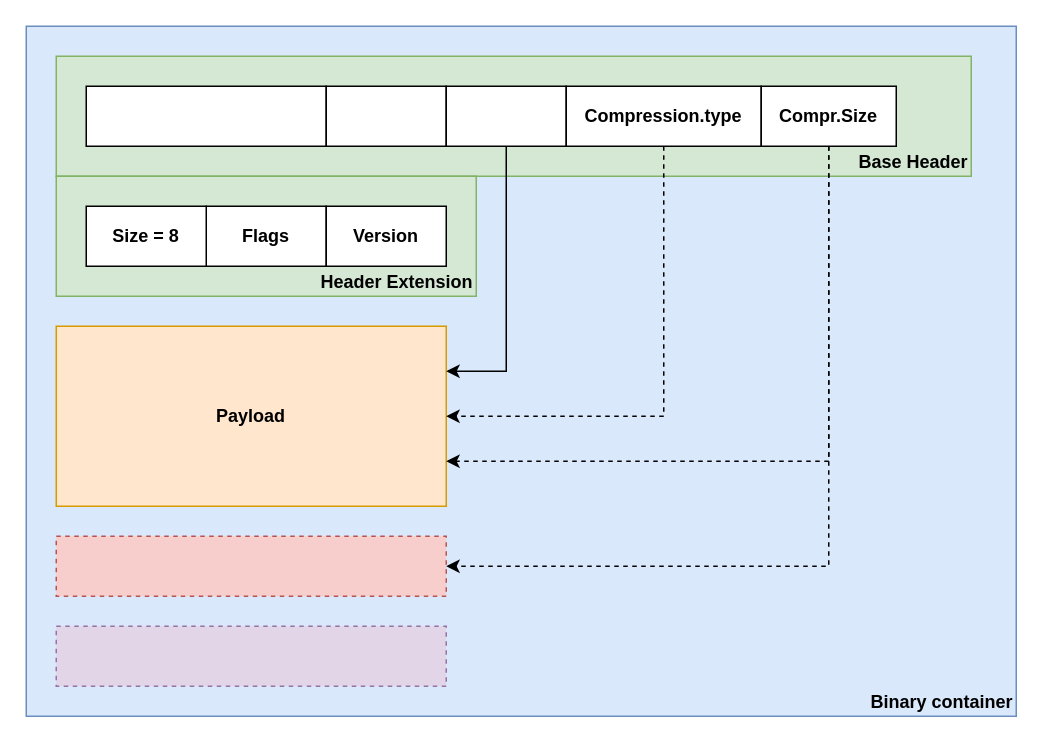
This 1043x743 diagram has some shape labels left out. The centre of each missing label's shape, as x and y in pixels:
Additional unknown data: (250,655)
Checksum: (250,565)
Header Type: (205,115)
Platform: (385,115)
Size: (505,115)
